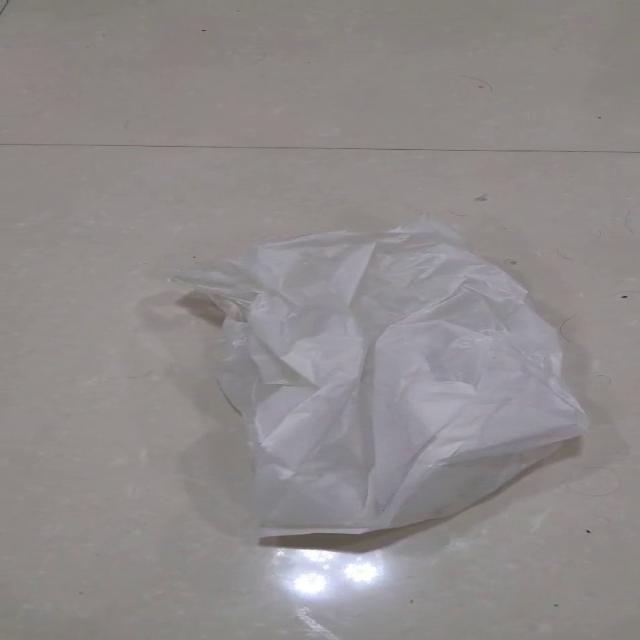plastic: (167, 214, 589, 536)
